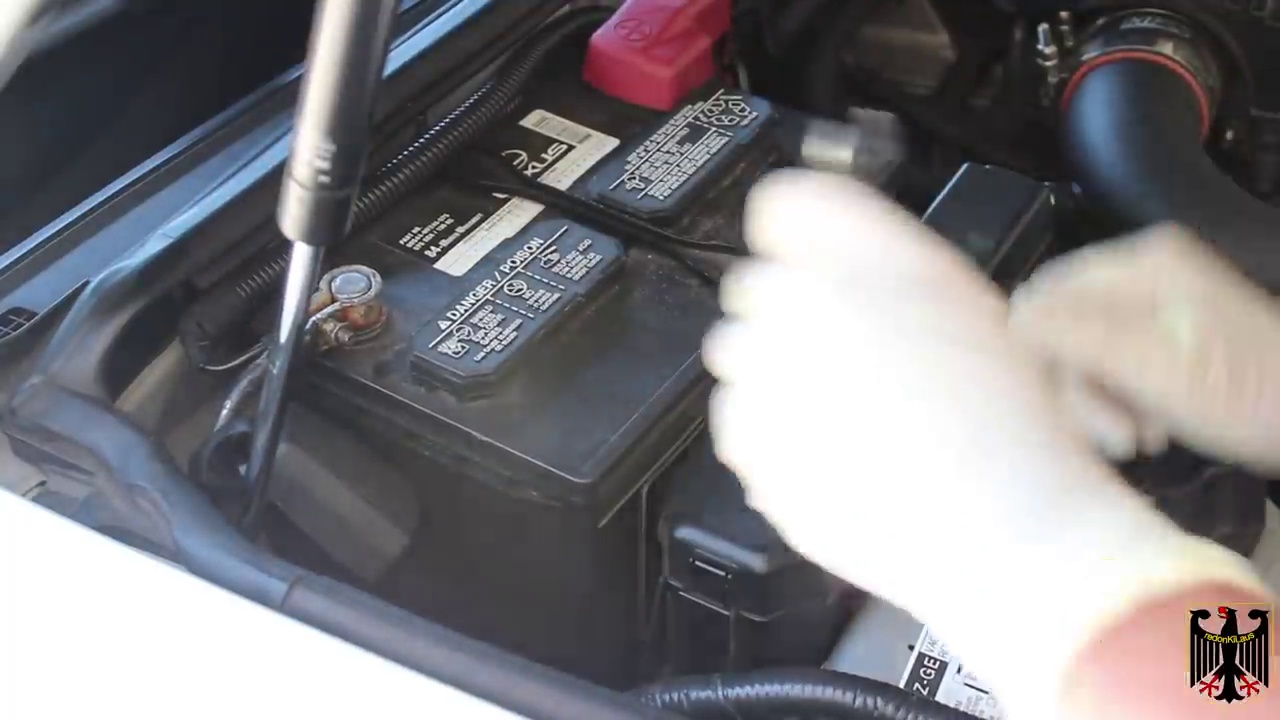battery: (258, 20, 880, 511)
neg_connected: (221, 230, 413, 400)
pos_connected: (553, 12, 761, 124)
